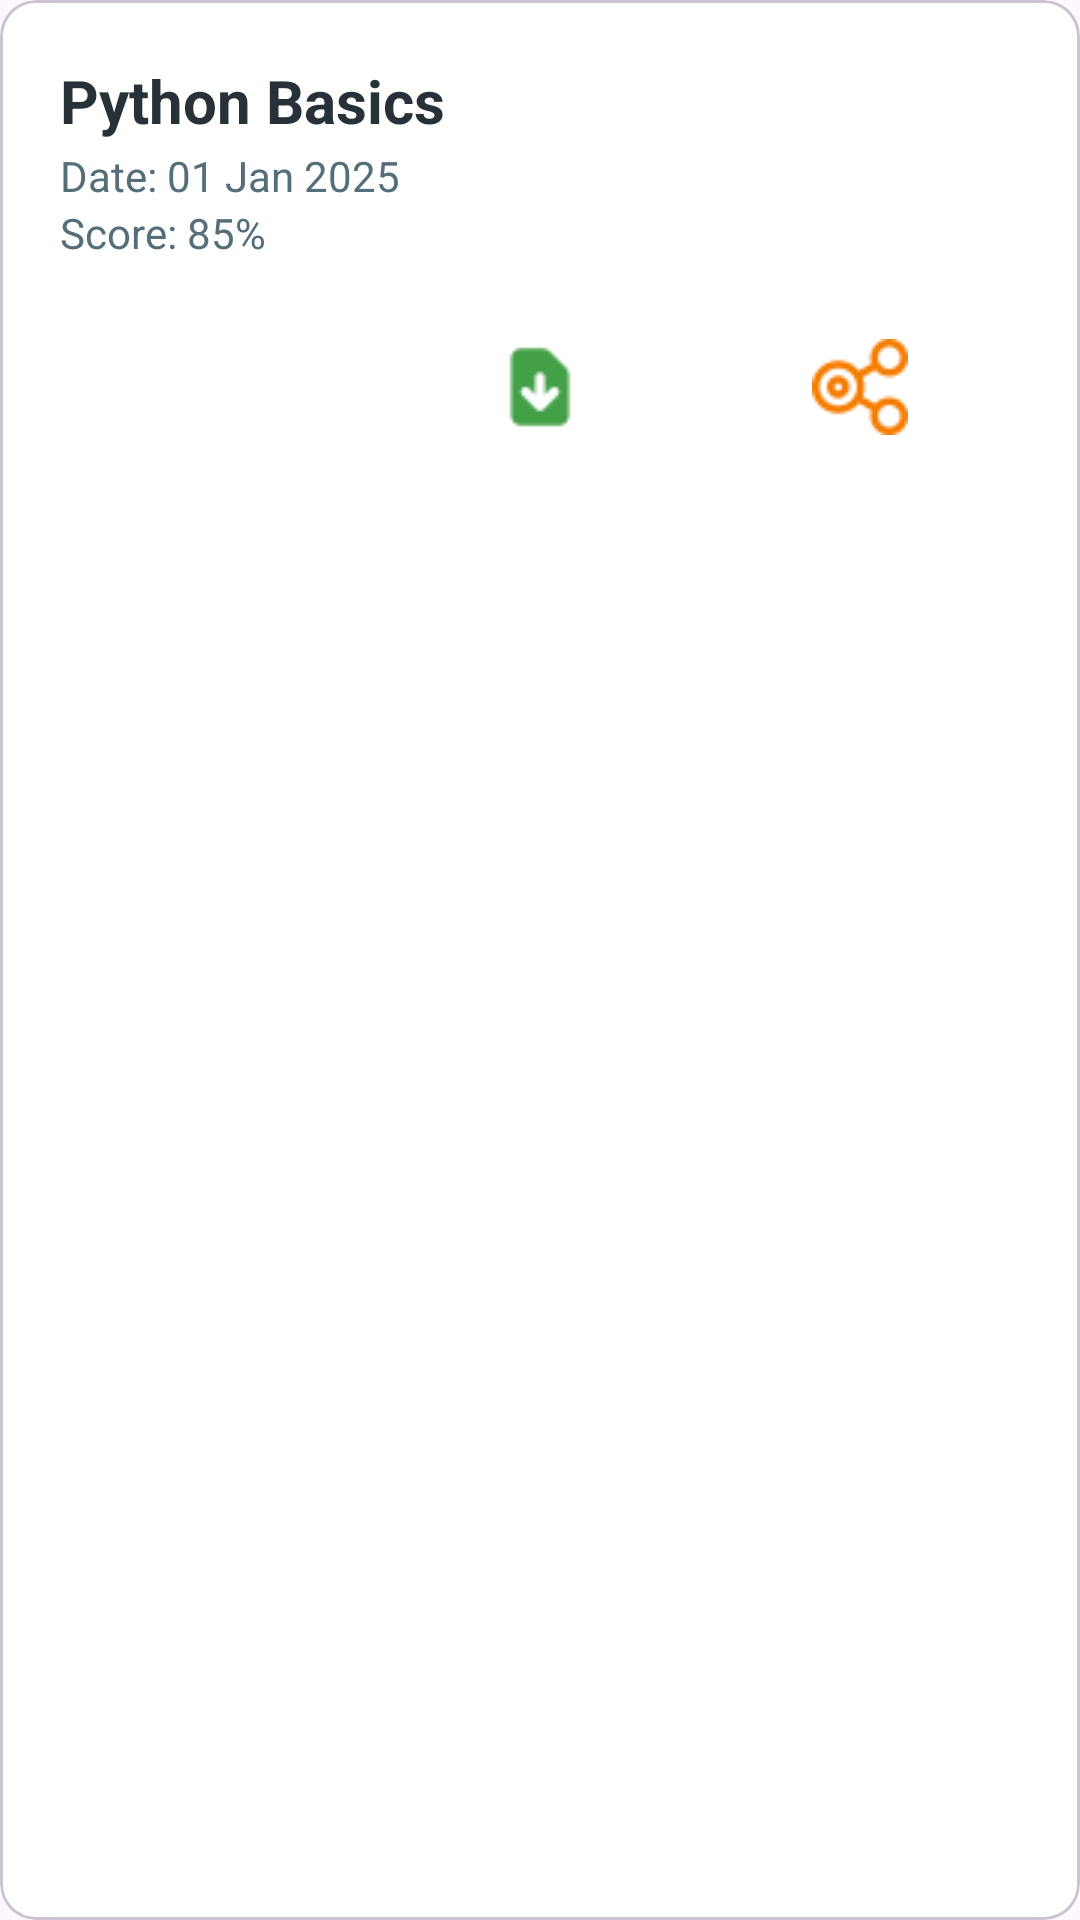

Locate icon controls on the screen. Image size 1080*1920, boxes as (x1, y1, x2, y2).
Download Certificate: (509, 347, 571, 427)
Share Certificate: (812, 339, 908, 435)
